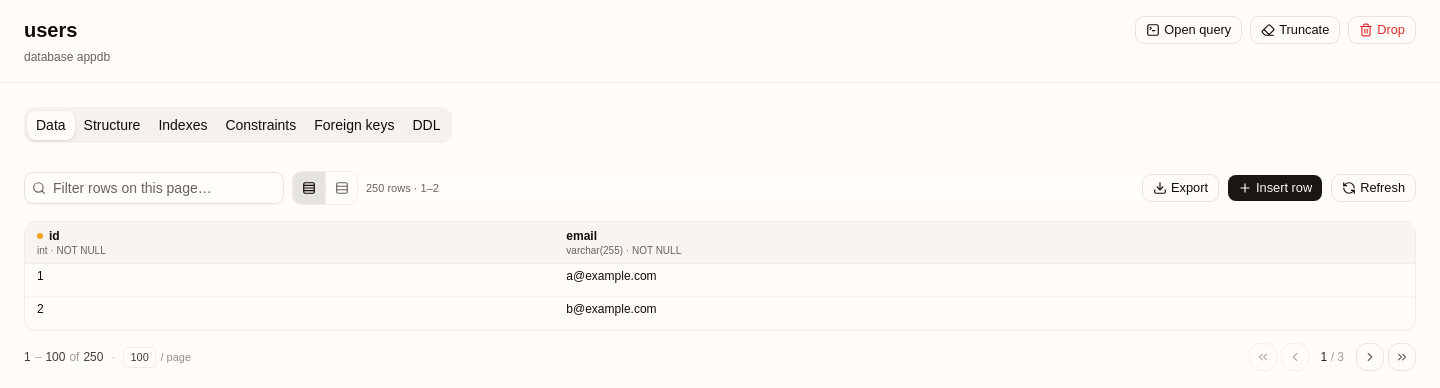
Test case: mysql TableDetailClient (characterization) › Retry re-requests the offset the user was on, not page 0
Expected: the text "a@example.com" is shown, [554,264,1347,297]
Click the button named "next page".
click(1370, 357)  # box [1356,343,1384,371]
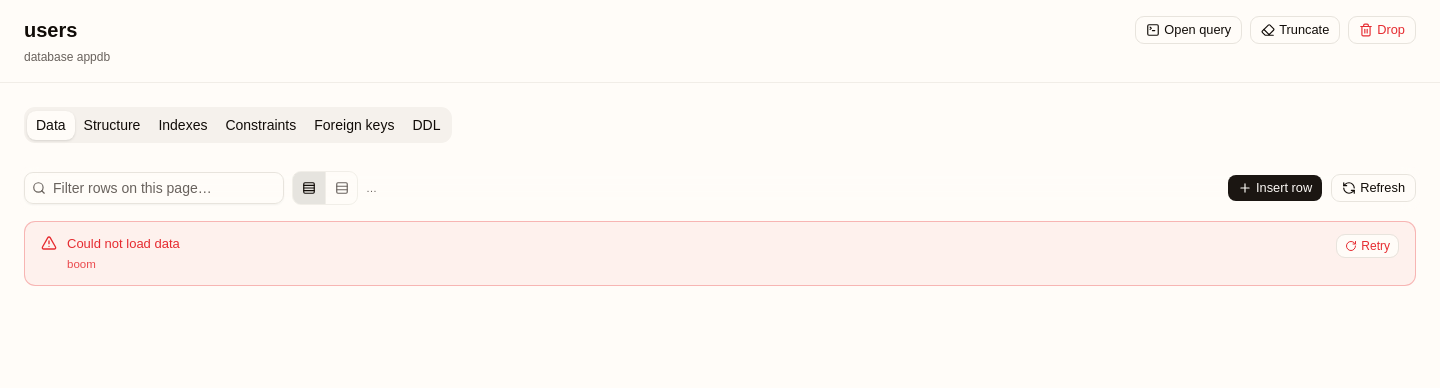
Expected: the message "Could not load data boom Retry" is shown, [24,221,1416,286]
Click the button "Retry".
click(1368, 246)  # box [1336,234,1399,258]
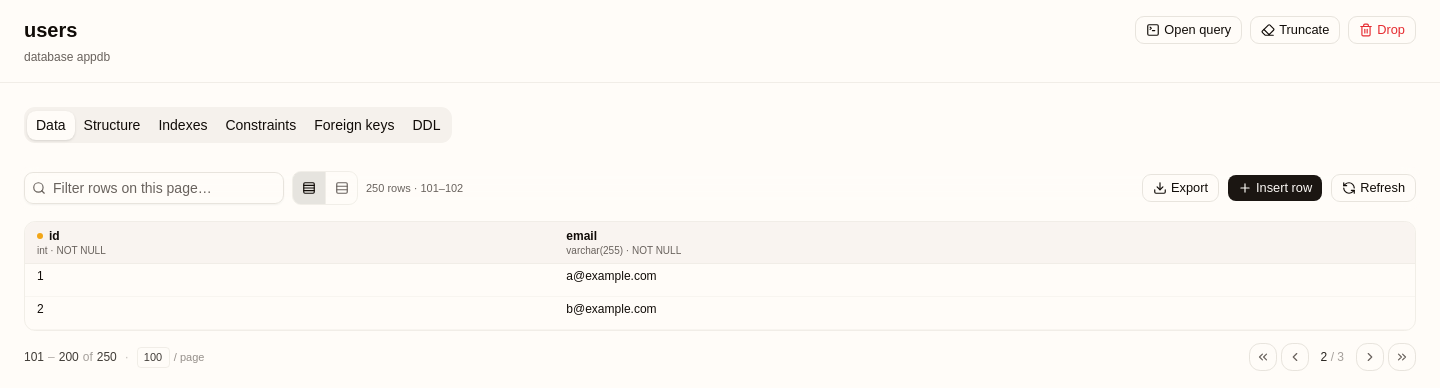
Expected: the text "a@example.com" is shown, [554,264,1347,297]
